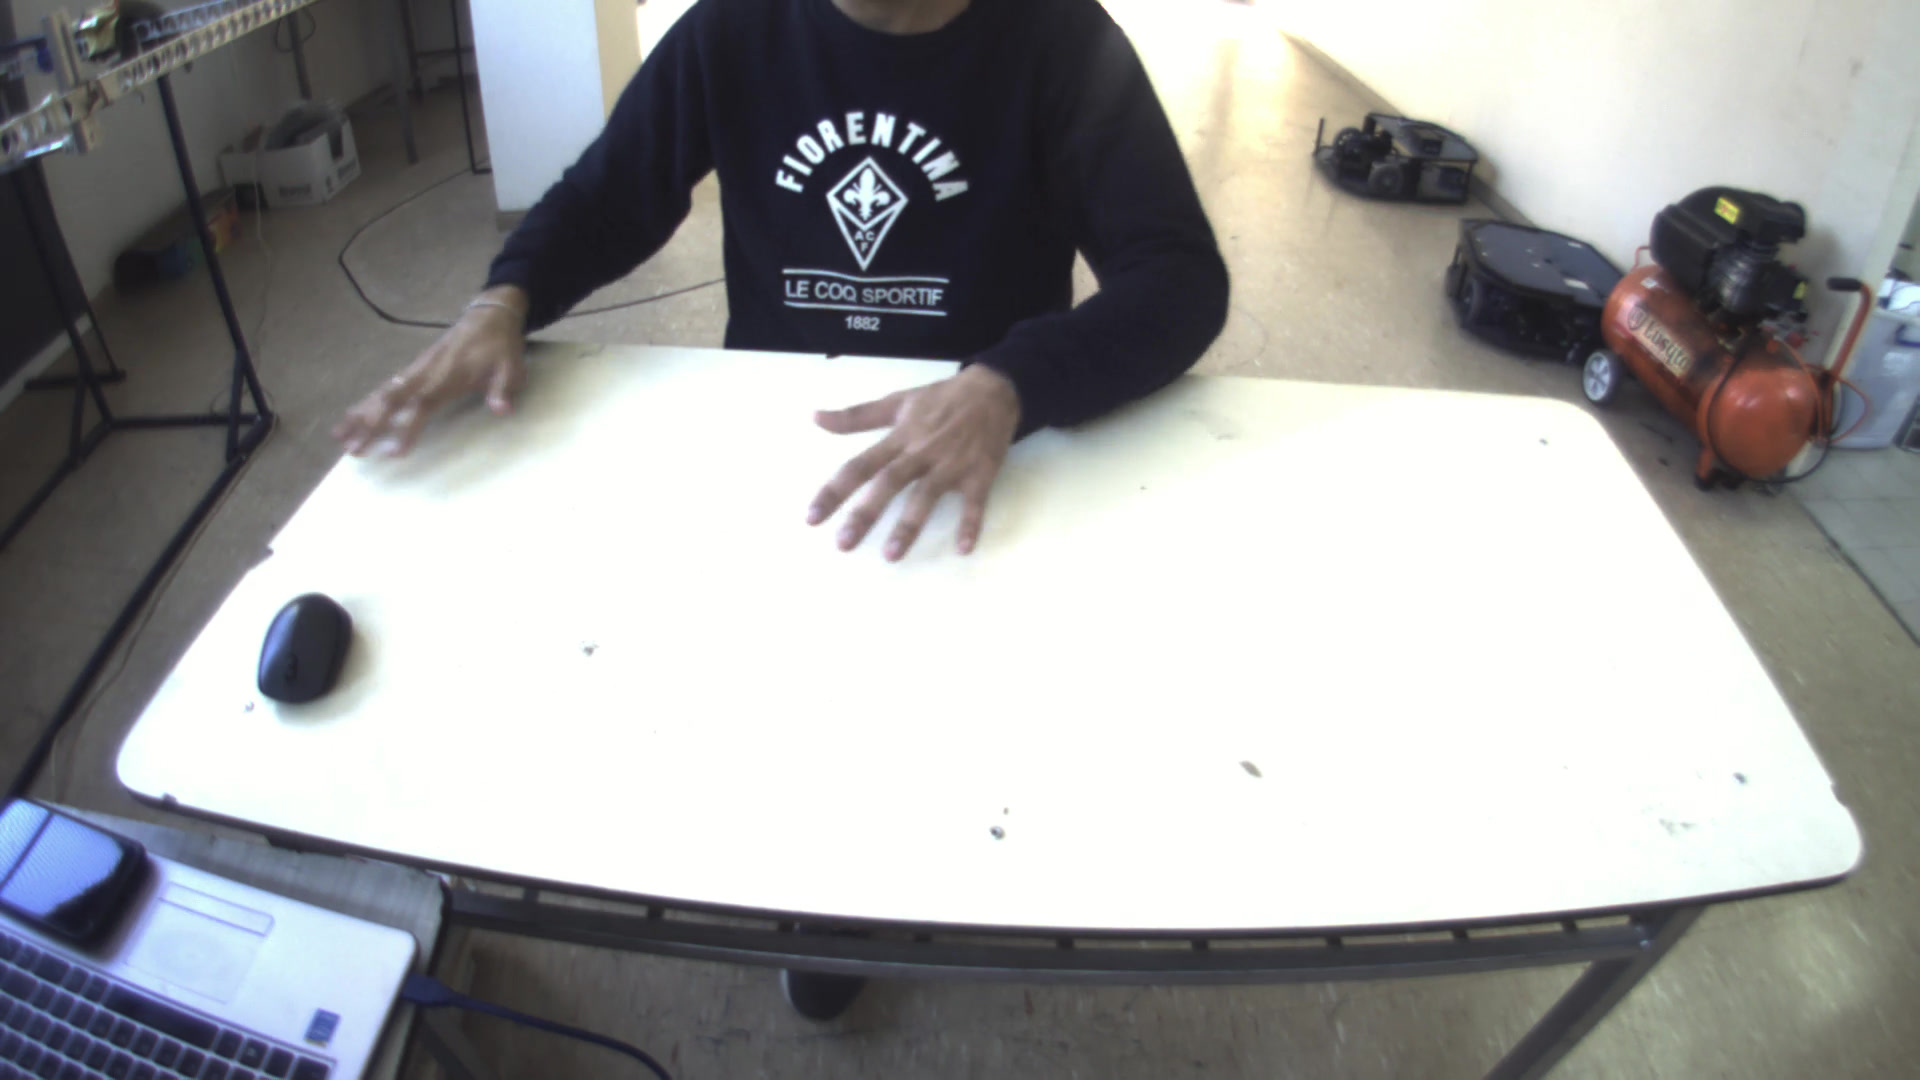hand: (790, 348, 1031, 570), (332, 276, 541, 462)
